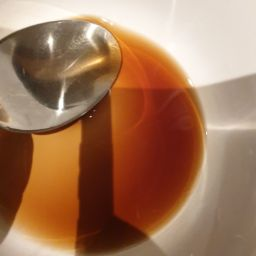Balsamic vinegar: (90, 13, 205, 210), (10, 138, 183, 241), (134, 51, 201, 228), (7, 134, 204, 189), (20, 30, 128, 101)
